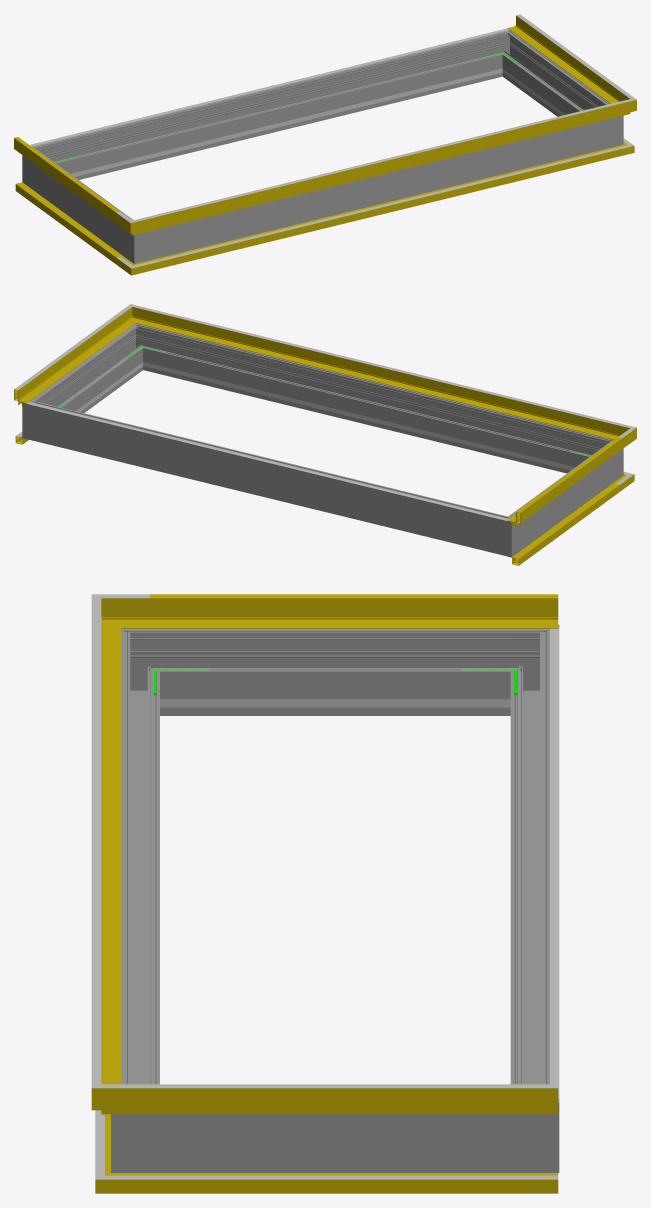
3 views of the same model, one above another, from view 1: azimuth 30°, elevation 25°; view 2: azimuth 150°, elevation 25°; view 3: azimuth 270°, elevation 25° (orthographic). The views are drawn at different scales.
Parts seen in each view (by area): view 1: 3DGeom-276, 3DGeom-298, 3DGeom-56, 3DGeom-11, 3DGeom-297, 3DGeom-268, 3DGeom-58, 3DGeom-244, 3DGeom-220, 3DGeom-66, 3DGeom-20, 3DGeom-50 (+11 smaller); view 2: 3DGeom-298, 3DGeom-276, 3DGeom-56, 3DGeom-297, 3DGeom-268, 3DGeom-58, 3DGeom-239, 3DGeom-278, 3DGeom-220, 3DGeom-66, 3DGeom-50, 3DGeom-6 (+8 smaller); view 3: 3DGeom-268, 3DGeom-297, 3DGeom-276, 3DGeom-298, 3DGeom-50, 3DGeom-58, 3DGeom-56, 3DGeom-16, 3DGeom-66, 3DGeom-220, 3DGeom-284, 3DGeom-290 (+9 smaller).
Part boxes in pixels (x1,y1,x2,y2): 3DGeom-276: (50,35,498,179); 3DGeom-298: (159,122,598,257); 3DGeom-56: (153,106,611,229); 3DGeom-11: (153,149,609,269); 3DGeom-297: (505,39,604,116); 3DGeom-268: (36,155,127,252); 3DGeom-58: (507,15,617,102); 3DGeom-244: (80,74,478,175); 3DGeom-220: (30,28,509,146); 3DGeom-66: (154,104,610,216); 3DGeom-20: (155,150,608,262); 3DGeom-50: (14,138,115,223); 3DGeom-298: (147,328,595,473); 3DGeom-276: (47,405,490,550); 3DGeom-56: (148,312,609,437); 3DGeom-297: (41,332,140,412); 3DGeom-268: (518,449,608,546); 3DGeom-58: (14,316,128,405); 3DGeom-239: (167,368,565,468); 3DGeom-278: (486,509,526,557); 3DGeom-220: (26,402,508,520); 3DGeom-66: (154,310,610,422); 3DGeom-50: (507,438,622,526); 3DGeom-6: (508,483,619,565); 3DGeom-268: (169,628,500,715); 3DGeom-297: (169,1114,500,1172); 3DGeom-276: (510,649,549,1084); 3DGeom-298: (121,649,159,1084); 3DGeom-50: (150,598,558,628); 3DGeom-58: (150,1088,558,1114); 3DGeom-56: (101,638,120,1084); 3DGeom-16: (153,1173,558,1193); 3DGeom-66: (91,619,101,1063); 3DGeom-220: (550,628,559,1098); 3DGeom-284: (501,1077,559,1172); 3DGeom-290: (111,1077,169,1172).
Bounding box in the file's own units: 3.05 × 0.307 × 1.22.
